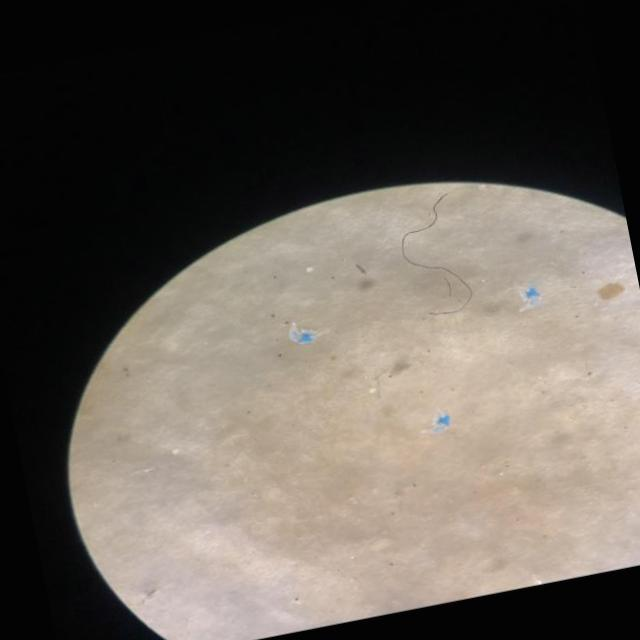fiber: (400, 194, 472, 313)
film: (289, 325, 315, 343), (524, 287, 539, 305), (431, 424, 450, 432)
fragment: (597, 282, 624, 301)
pellet: (369, 387, 376, 394), (306, 267, 312, 272), (173, 448, 178, 453)
